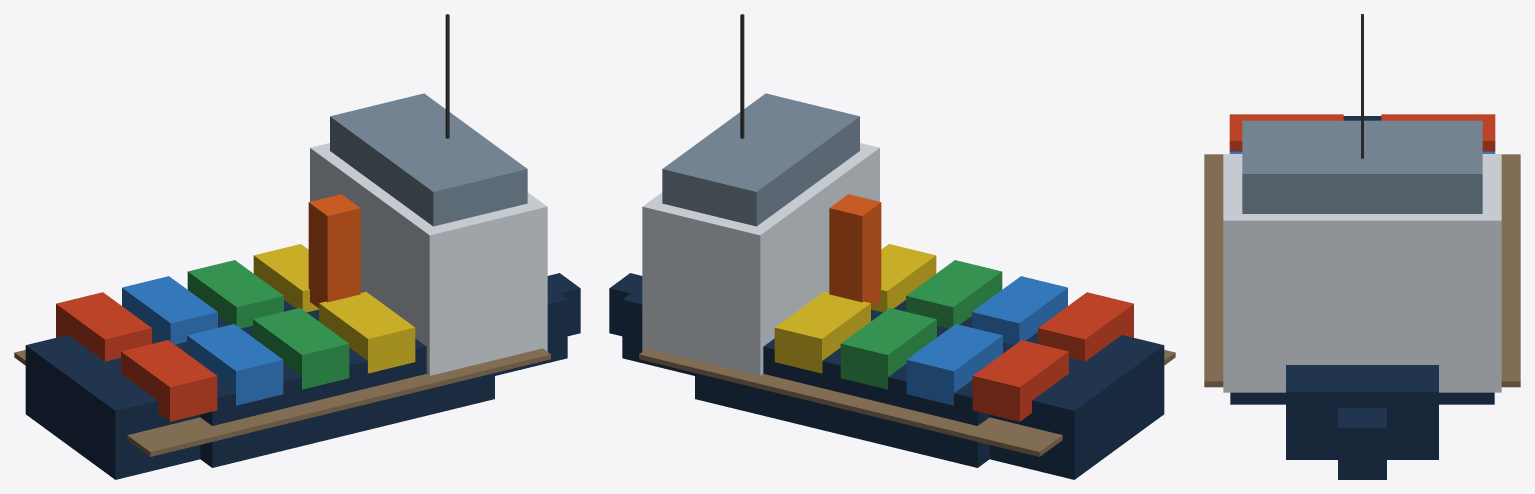
The model's file is 88fd3fe0-580f-4c28-896e-5ede2520916f.glb.
3 renders of one model, left to right at view 1: azimuth 30°, elevation 25°; view 2: azimuth 150°, elevation 25°; view 3: azimuth 270°, elevation 25°, orthographic. The views are drawn at different scales.
Bounding box in the file's own units: 10.6 × 6.91 × 5.
